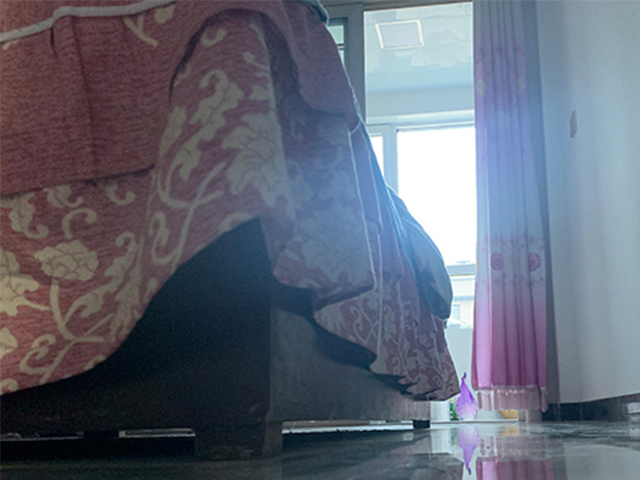bed: (1, 1, 458, 461)
curtain: (471, 1, 551, 414)
